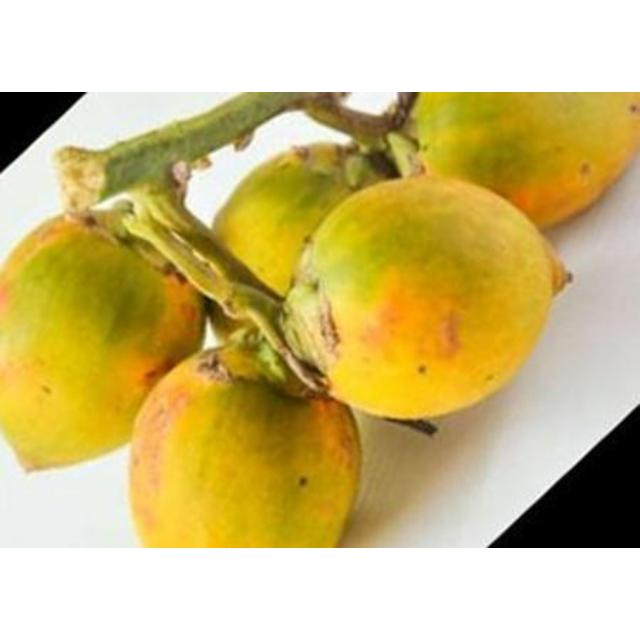good: (299, 174, 572, 425), (0, 211, 209, 475), (127, 358, 364, 547), (411, 92, 639, 231), (208, 145, 385, 298)
